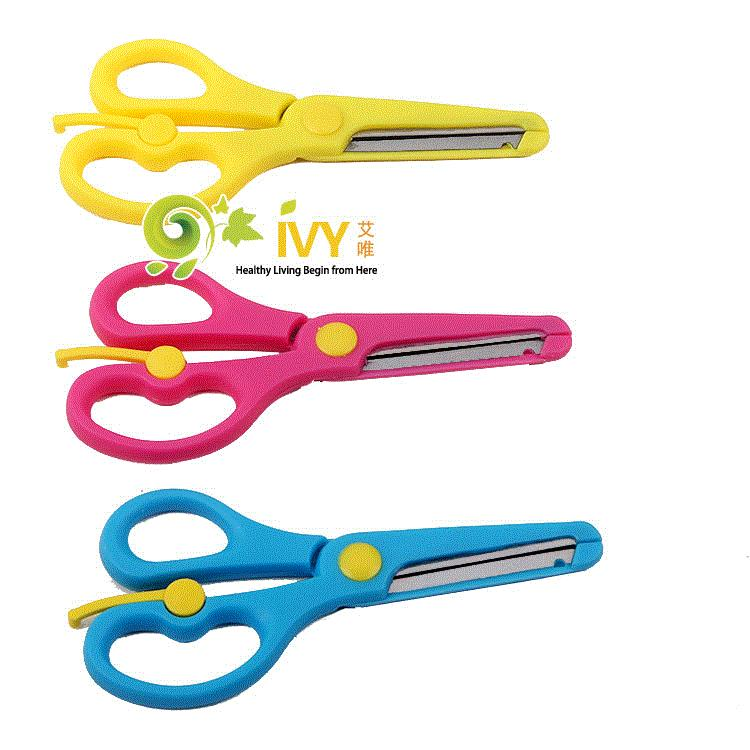scissor: (53, 54, 561, 473), (62, 521, 684, 694)
